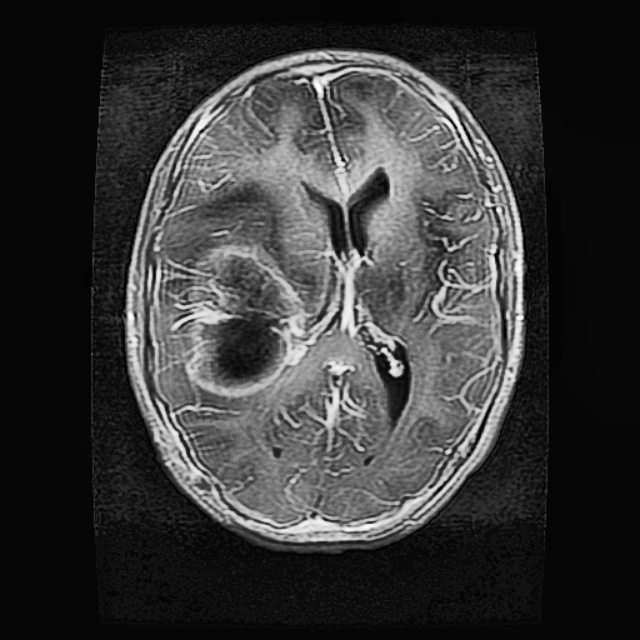Glioma: (189, 247, 298, 387)
